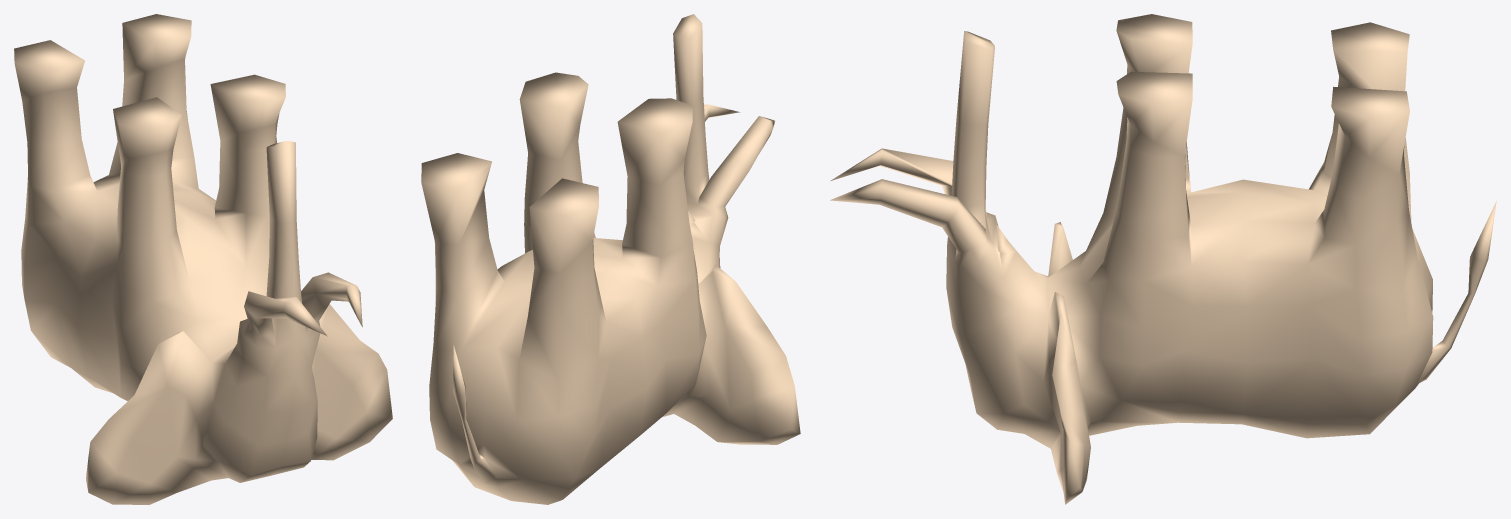
File: elephant1_2.dae
The picture shows the model from 3 angles, left to right: view 1: azimuth 30°, elevation 25°; view 2: azimuth 150°, elevation 25°; view 3: azimuth 270°, elevation 25°; orthographic projection. The views are drawn at different scales.
Parts seen in each view (by area): view 1: elephant1_019; view 2: elephant1_019; view 3: elephant1_019.
Part boxes in pixels (left/top/right/bottom): elephant1_019: left=14, top=14, right=392, bottom=504; elephant1_019: left=421, top=14, right=800, bottom=504; elephant1_019: left=830, top=14, right=1496, bottom=504.
Bounding box in the file's own units: 0.2121 × 0.3642 × 0.2496.
